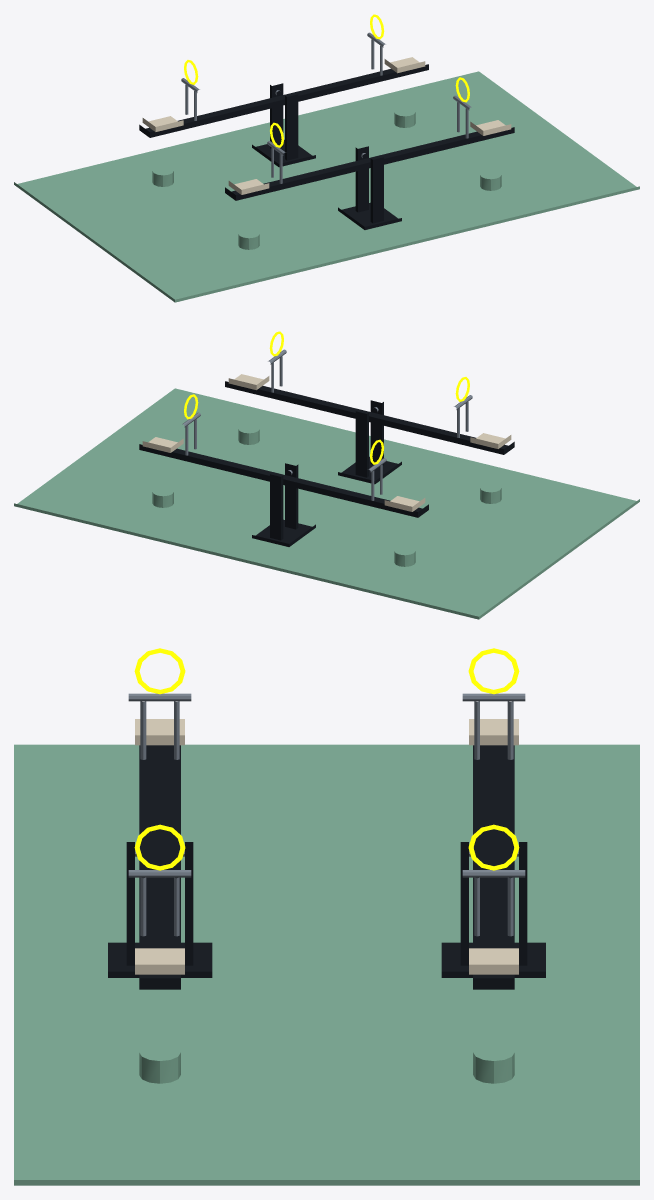
3 renders of one model, top to bottom at view 1: azimuth 30°, elevation 25°; view 2: azimuth 150°, elevation 25°; view 3: azimuth 270°, elevation 25°, orthographic. The views are drawn at different scales.
Visible parts, largest first — view 1: Safety_Pad, Seesaw2_Beam, Seesaw1_Beam, Fulcrum2, Fulcrum1, Seesaw2_Seats, Seesaw1_Seats, Seesaw2_Handles, Seesaw1_Handles, Bumpers2, Bumpers1; view 2: Safety_Pad, Seesaw1_Beam, Seesaw2_Beam, Fulcrum1, Fulcrum2, Seesaw1_Seats, Seesaw2_Seats, Seesaw1_Handles, Seesaw2_Handles, Bumpers1, Bumpers2; view 3: Safety_Pad, Seesaw1_Beam, Seesaw2_Beam, Fulcrum1, Fulcrum2, Seesaw1_Handles, Seesaw2_Handles, Seesaw1_Seats, Seesaw2_Seats, Racket_Hoops1, Racket_Hoops2, Bumpers1 (+1 smaller).
Part boxes in pixels (left/top/right/bottom): Safety_Pad: left=14, top=71, right=639, bottom=302; Seesaw2_Beam: left=225, top=127, right=514, bottom=200; Seesaw1_Beam: left=139, top=64, right=428, bottom=137; Fulcrum2: left=338, top=146, right=401, bottom=229; Fulcrum1: left=252, top=83, right=315, bottom=167; Seesaw2_Seats: left=228, top=120, right=511, bottom=194; Seesaw1_Seats: left=142, top=57, right=425, bottom=131; Seesaw2_Handles: left=267, top=95, right=471, bottom=183; Seesaw1_Handles: left=181, top=32, right=385, bottom=120; Bumpers2: left=238, top=175, right=501, bottom=249; Bumpers1: left=152, top=112, right=415, bottom=186; Safety_Pad: left=14, top=388, right=639, bottom=619; Seesaw1_Beam: left=139, top=444, right=428, bottom=517; Seesaw2_Beam: left=225, top=381, right=514, bottom=454; Fulcrum1: left=252, top=463, right=315, bottom=546; Fulcrum2: left=338, top=400, right=401, bottom=484; Seesaw1_Seats: left=142, top=437, right=425, bottom=511; Seesaw2_Seats: left=228, top=374, right=511, bottom=448; Seesaw1_Handles: left=182, top=412, right=386, bottom=500; Seesaw2_Handles: left=268, top=349, right=472, bottom=437; Bumpers1: left=152, top=492, right=415, bottom=566; Bumpers2: left=238, top=429, right=501, bottom=503; Safety_Pad: left=14, top=744, right=639, bottom=1185; Seesaw1_Beam: left=473, top=745, right=514, bottom=989; Seesaw2_Beam: left=139, top=745, right=180, bottom=989; Fulcrum1: left=441, top=842, right=545, bottom=977; Fulcrum2: left=108, top=842, right=212, bottom=977; Seesaw1_Handles: left=462, top=693, right=525, bottom=936; Seesaw2_Handles: left=128, top=693, right=191, bottom=936; Seesaw1_Seats: left=469, top=719, right=518, bottom=974; Seesaw2_Seats: left=135, top=719, right=184, bottom=974; Racket_Hoops1: left=468, top=648, right=519, bottom=870; Racket_Hoops2: left=134, top=648, right=185, bottom=870; Bumpers1: left=473, top=1052, right=514, bottom=1083.
Size of what is drawn, in the model's own units: 5 by 1.21 by 3.
5 materials, 2 textured.
